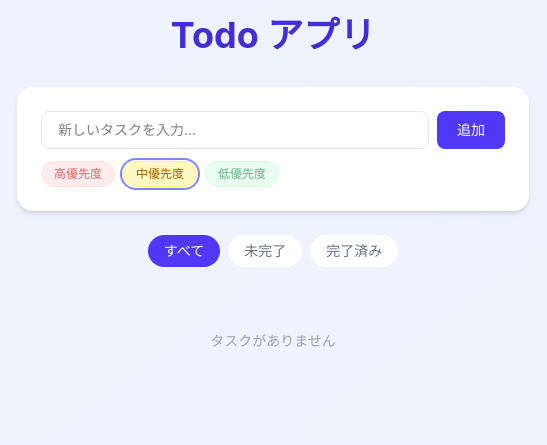
Scenario: Home (Todo アプリ) › フィルター › 該当Todoがない場合「タスクがありません」が表示される
Type "未完了タスク" into the field with placeholder "新しいタスクを入力...".
click(235, 130); type("未完了タスク")  # box [41,111,429,149]
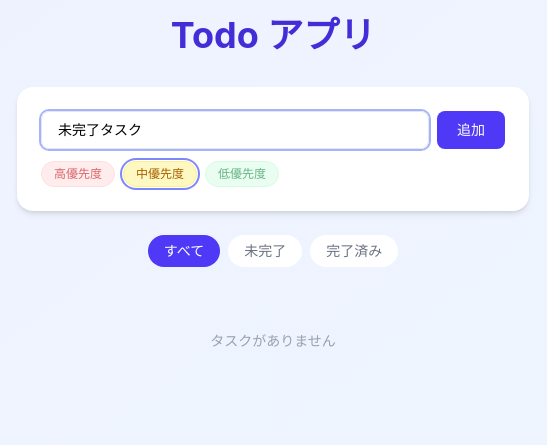
Click the button "追加".
click(471, 130)  # box [437,111,505,149]
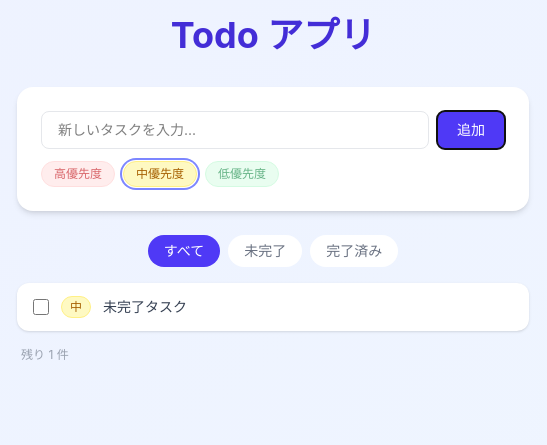
Click the button "完了済み".
click(354, 251)  # box [310,235,398,267]
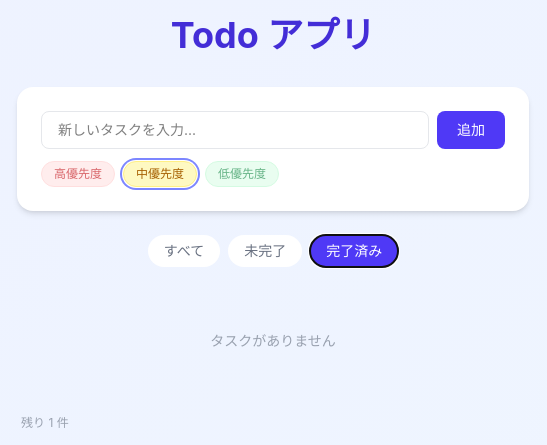
Expected: the text "タスクがありません" is shown, [210,332,336,349]
